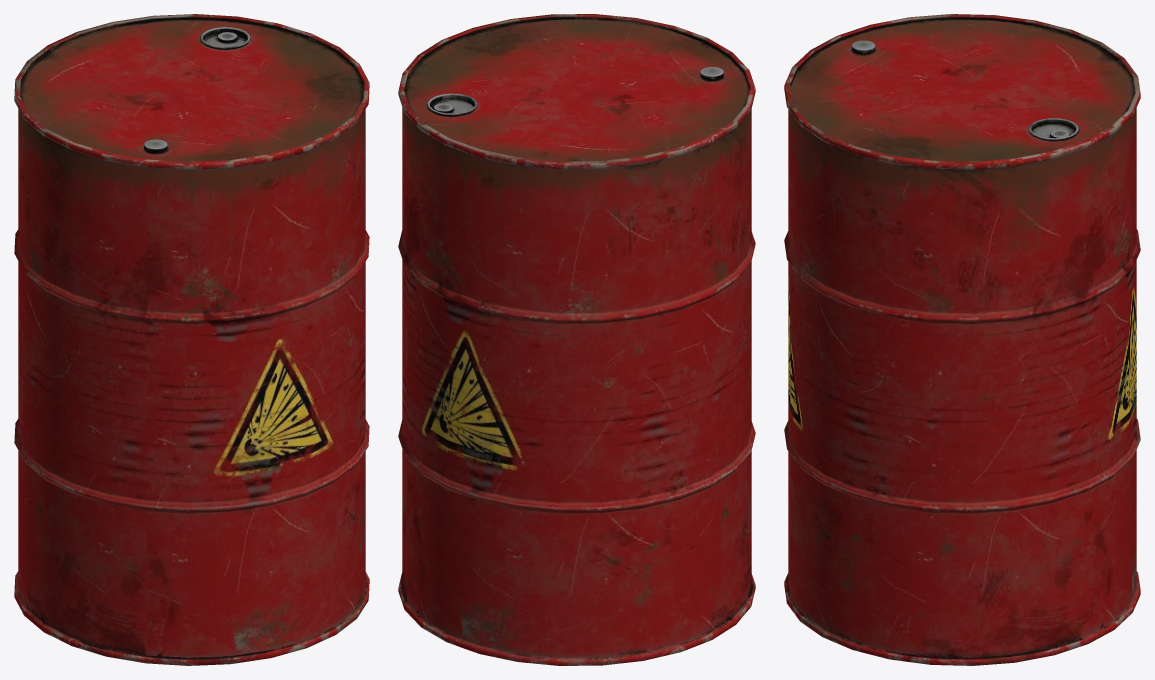
The model's file is Barrel_01.glb.
3 views of the same model, side by side, from view 1: azimuth 30°, elevation 25°; view 2: azimuth 150°, elevation 25°; view 3: azimuth 270°, elevation 25° (orthographic).
Parts seen in each view (by area): view 1: Barrel_01; view 2: Barrel_01; view 3: Barrel_01.
Part boxes in pixels (left/top/right/bottom): Barrel_01: left=14, top=14, right=369, bottom=665; Barrel_01: left=398, top=14, right=755, bottom=665; Barrel_01: left=784, top=14, right=1140, bottom=665.
Size of the model in its own units: 0.563 by 0.88 by 0.563.
Materials: 1 (1 with a texture image).
